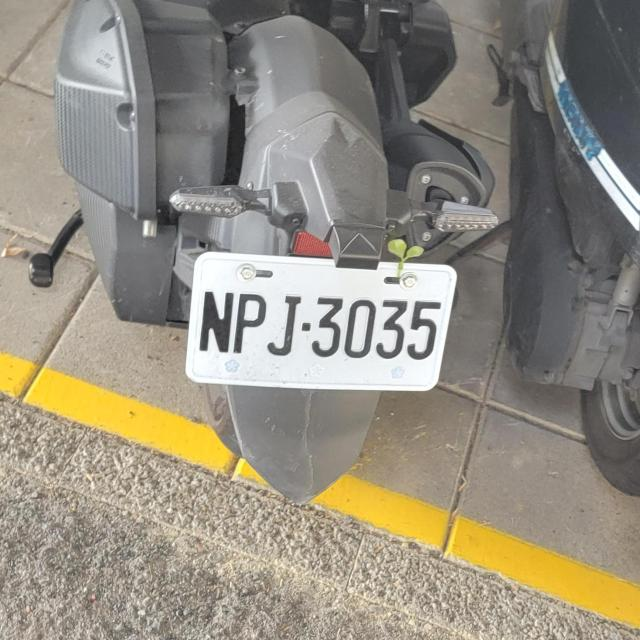W: (181, 248, 459, 394)
